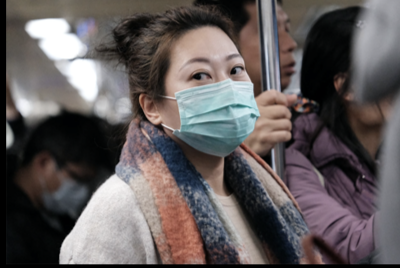with_mask: (162, 50, 260, 159), (41, 166, 96, 219)
without_mask: (240, 13, 300, 92)
